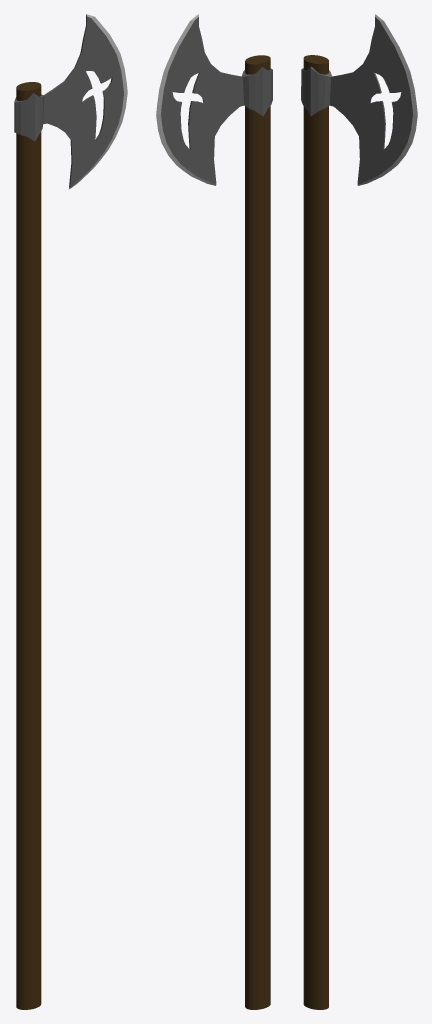
File: krz_topor 2.fbx
3 views of the same model, side by side, from view 1: azimuth 30°, elevation 25°; view 2: azimuth 210°, elevation 25°; view 3: azimuth 330°, elevation 25° (orthographic). The views are drawn at different scales.
Parts seen in each view (by area): view 1: Walec; view 2: Walec; view 3: Walec.
Boxes of the visible parts, x1,y1,x2,y2 form: Walec: (14,14,127,1009); Walec: (156,14,272,1009); Walec: (301,14,417,1009).
Bounding box in the file's own units: 57.87 × 479 × 10.31.
